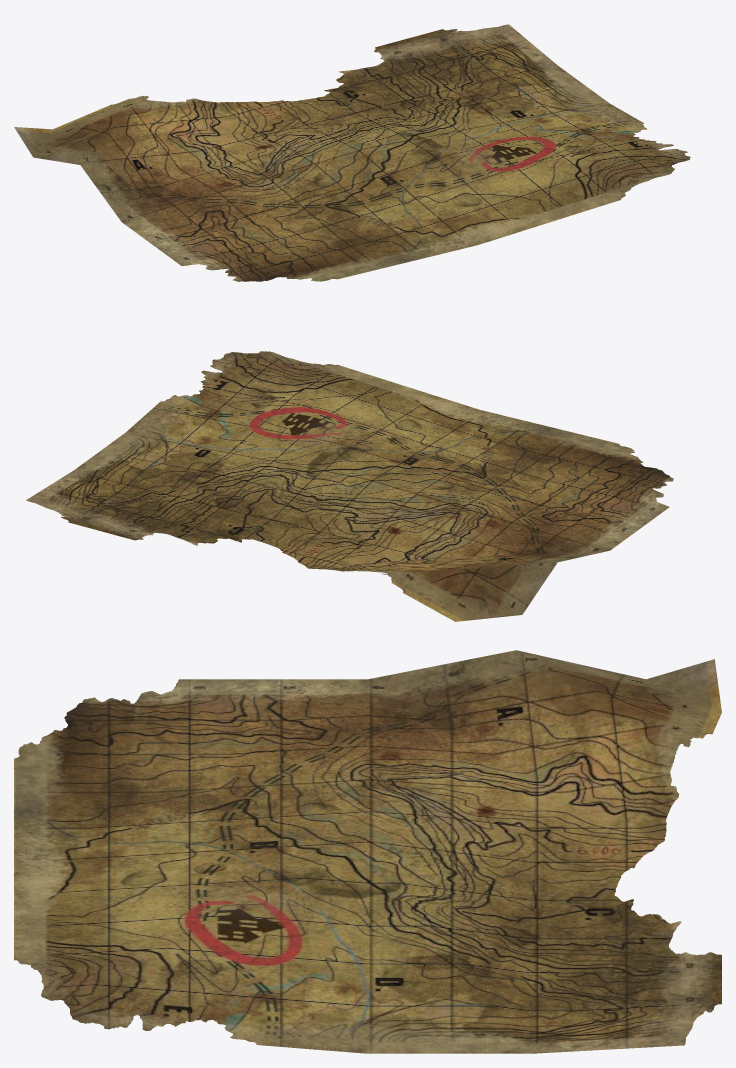
Rendered from Map_01.FBX.
3 renders of one model, top to bottom at view 1: azimuth 30°, elevation 25°; view 2: azimuth 150°, elevation 25°; view 3: azimuth 270°, elevation 25°, orthographic. The views are drawn at different scales.
Parts seen in each view (by area): view 1: map001; view 2: map001; view 3: map001.
Boxes of the visible parts, bbox=[...] form: map001: bbox=[14, 24, 690, 281]; map001: bbox=[26, 351, 673, 621]; map001: bbox=[14, 650, 721, 1053].
Size of the model in its own units: 175 by 7.31 by 140.
